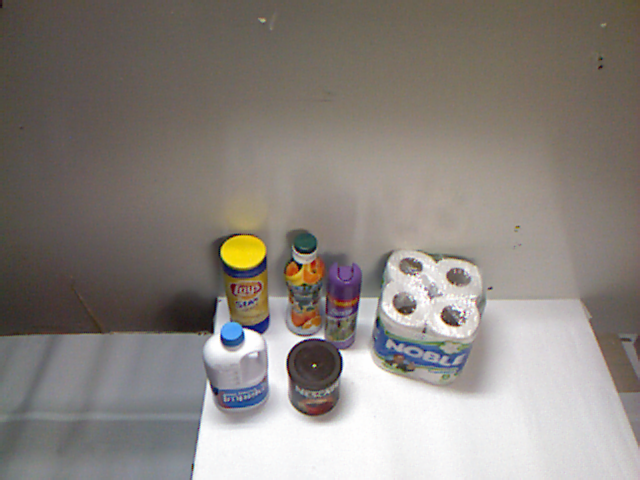balsamo: (218, 229, 271, 321)
cera: (298, 210, 358, 335)
confort: (358, 219, 468, 374)
durazno: (183, 297, 244, 367)
ketchup: (322, 306, 368, 376)
yogurt: (259, 214, 306, 325)
